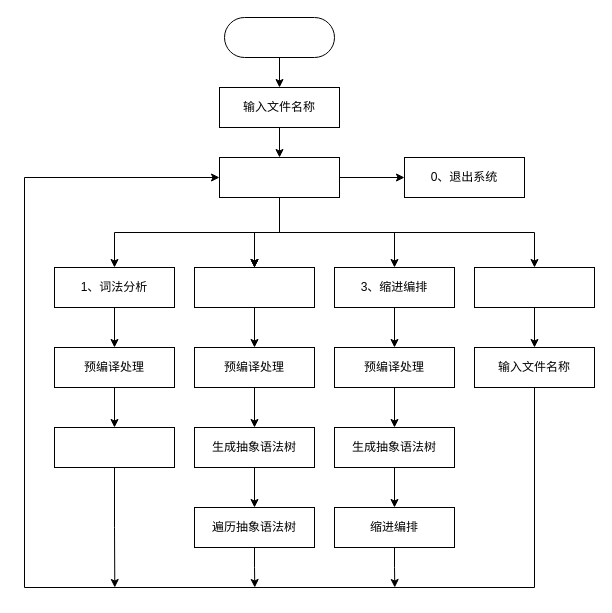
Image size: 612x613. Some labels were removed from this diagram. The centre of each missing label's shape, as x and y in pixels:
"2.语法分析" goes at point 254,287.
"4、选择文件" goes at point 534,287.
"开始" goes at point 279,37.
"词法分析" goes at point 114,447.
"输入操作代码" goes at point 279,177.
